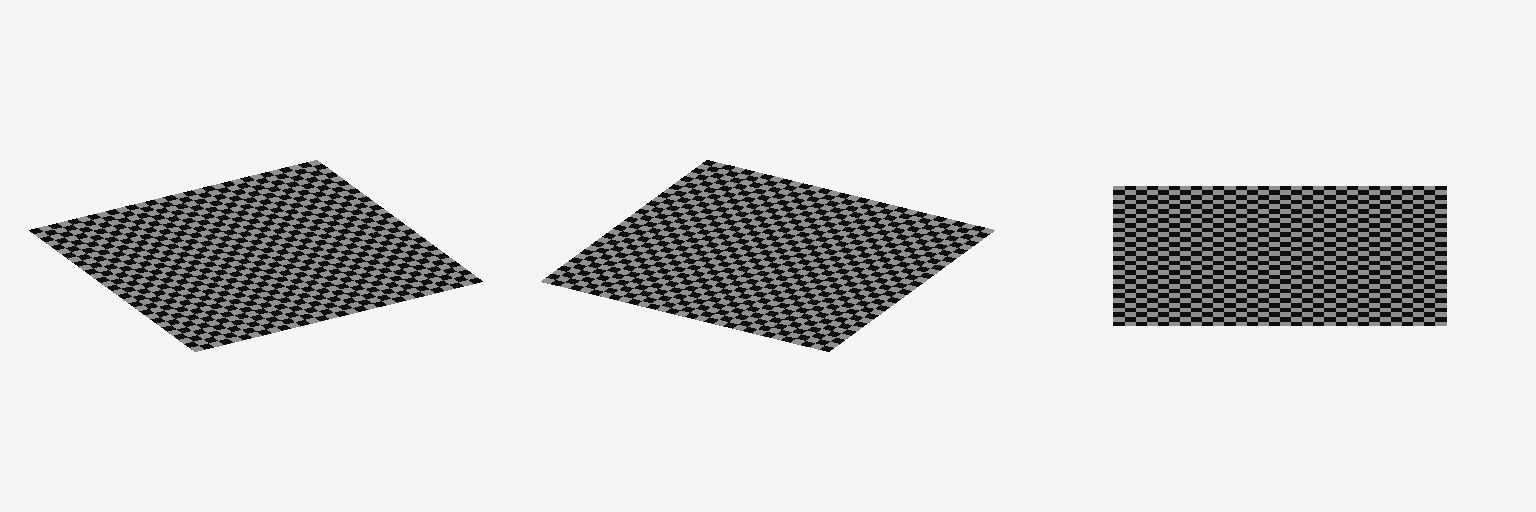
The model's file is small_chess_ground.obj.
The picture shows the model from 3 angles: view 1: azimuth 30°, elevation 25°; view 2: azimuth 150°, elevation 25°; view 3: azimuth 270°, elevation 25°; orthographic projection.
Visible parts, largest first — view 1: Cube.008_Cube.009, Cube.007_Cube.008, Cube.006_Cube.007, Cube.003_Cube.004, Cube.002_Cube.003, Cube_Cube.001, Cube.005_Cube.006, Cube.004_Cube.005, Cube.001_Cube.002; view 2: Cube.003_Cube.004, Cube.004_Cube.005, Cube.005_Cube.006, Cube.008_Cube.009, Cube.002_Cube.003, Cube_Cube.001, Cube.007_Cube.008, Cube.006_Cube.007, Cube.001_Cube.002; view 3: Cube.001_Cube.002, Cube_Cube.001, Cube.007_Cube.008, Cube.006_Cube.007, Cube.005_Cube.006, Cube.004_Cube.005, Cube.002_Cube.003, Cube.008_Cube.009, Cube.003_Cube.004.
Part boxes in pixels (x1,y1,x2,y2): Cube.008_Cube.009: (140,288,290,351); Cube.007_Cube.008: (332,241,482,304); Cube.006_Cube.007: (236,265,386,328); Cube.003_Cube.004: (29,207,178,270); Cube.002_Cube.003: (85,247,234,311); Cube_Cube.001: (180,224,331,287); Cube.005_Cube.006: (125,183,275,246); Cube.004_Cube.005: (221,160,371,223); Cube.001_Cube.002: (277,200,426,263); Cube.003_Cube.004: (733,288,883,351); Cube.004_Cube.005: (541,241,691,304); Cube.005_Cube.006: (637,265,787,328); Cube.008_Cube.009: (845,207,994,270); Cube.002_Cube.003: (789,247,938,311); Cube_Cube.001: (692,224,843,287); Cube.007_Cube.008: (652,160,802,223); Cube.006_Cube.007: (748,183,898,246); Cube.001_Cube.002: (597,200,746,263); Cube.001_Cube.002: (1224,279,1335,325); Cube_Cube.001: (1224,232,1335,278); Cube.007_Cube.008: (1113,279,1223,325); Cube.006_Cube.007: (1113,232,1223,278); Cube.005_Cube.006: (1336,232,1446,278); Cube.004_Cube.005: (1336,279,1446,325); Cube.002_Cube.003: (1224,186,1335,231); Cube.008_Cube.009: (1113,186,1223,231); Cube.003_Cube.004: (1336,186,1446,231).
Size of the model in its own units: 30 by 0.02 by 30.